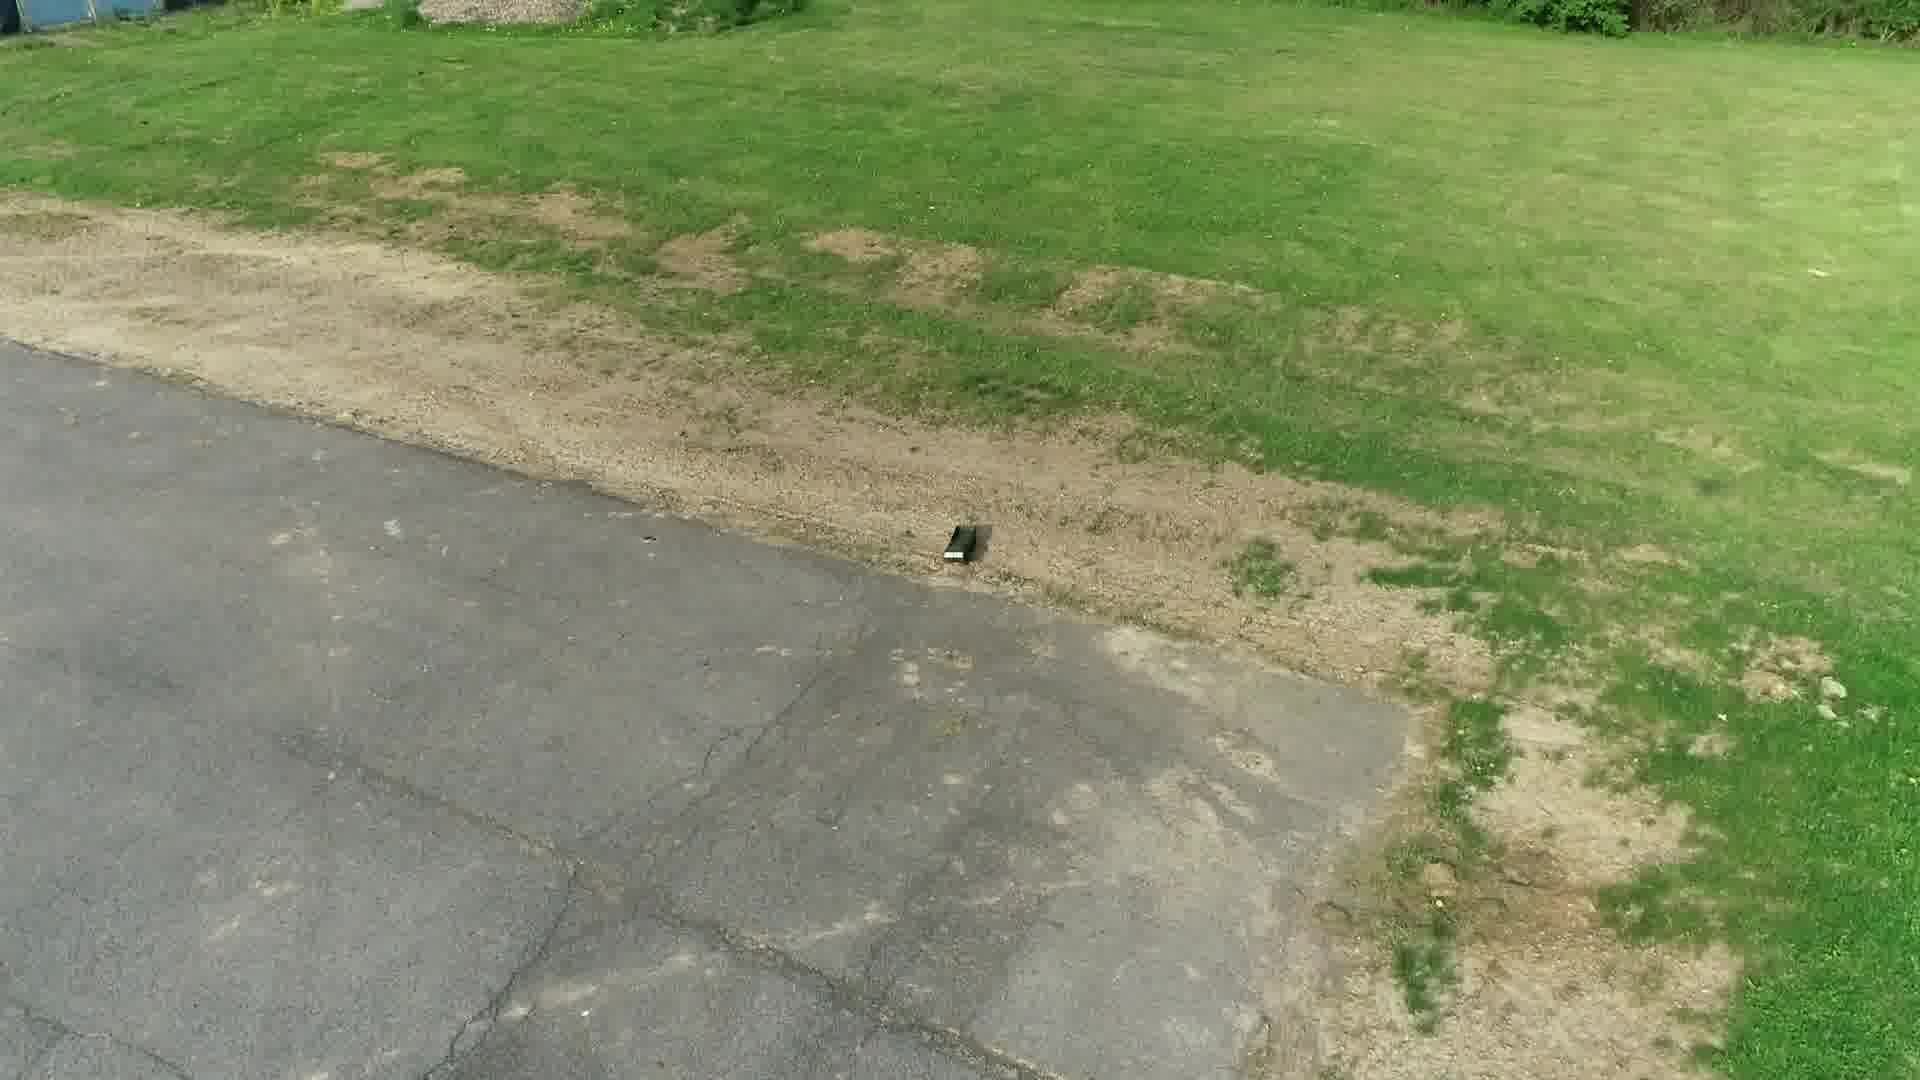transporter9: (935, 521, 990, 568)
